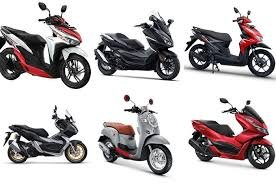motor: (1, 12, 92, 93), (186, 13, 273, 84), (94, 20, 183, 88), (192, 103, 274, 175), (101, 102, 174, 179), (4, 107, 90, 168)
